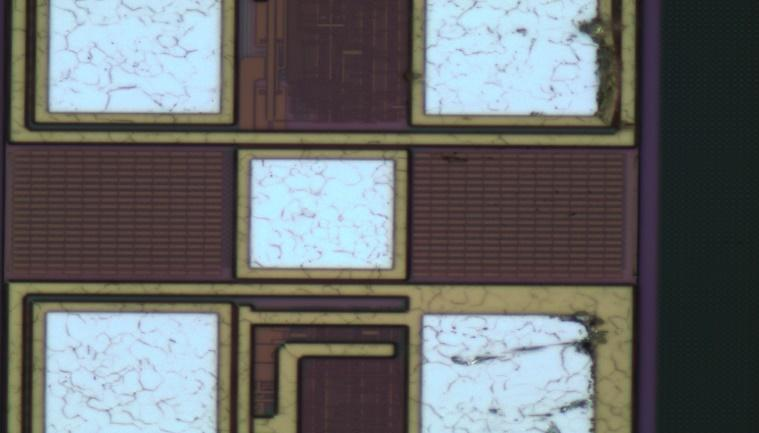SCRATCH: (447, 8, 620, 433)
